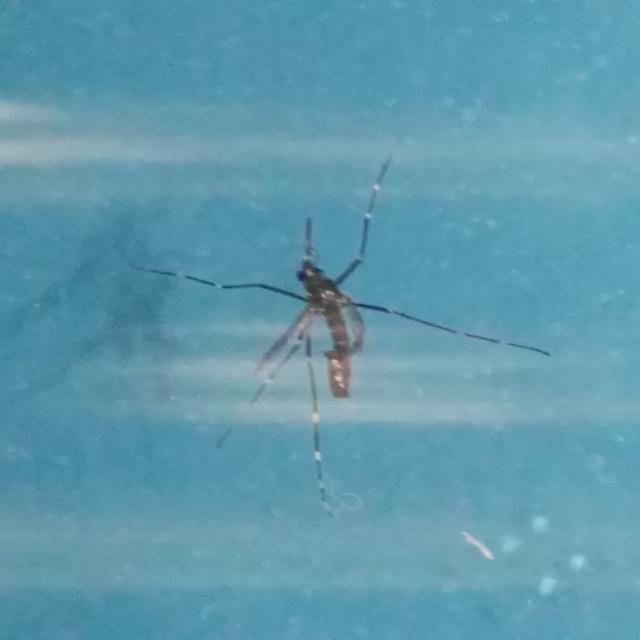albopictus: (111, 143, 544, 515)
